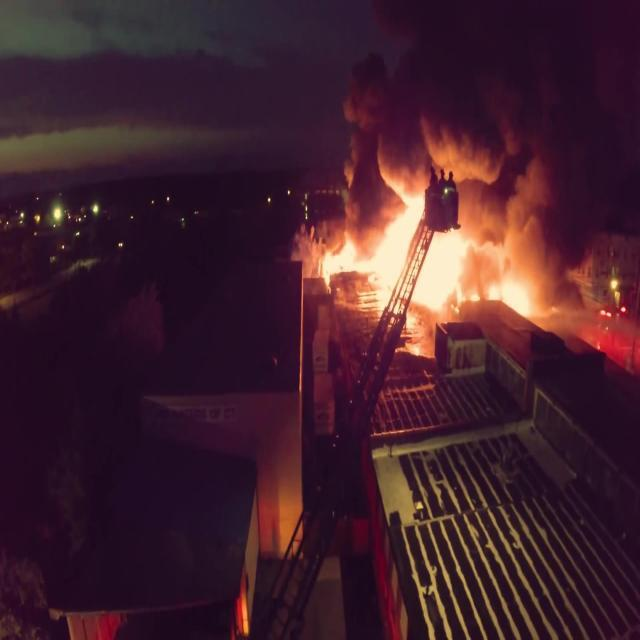Fire: (324, 212, 526, 319)
Smoke: (320, 0, 640, 229)
